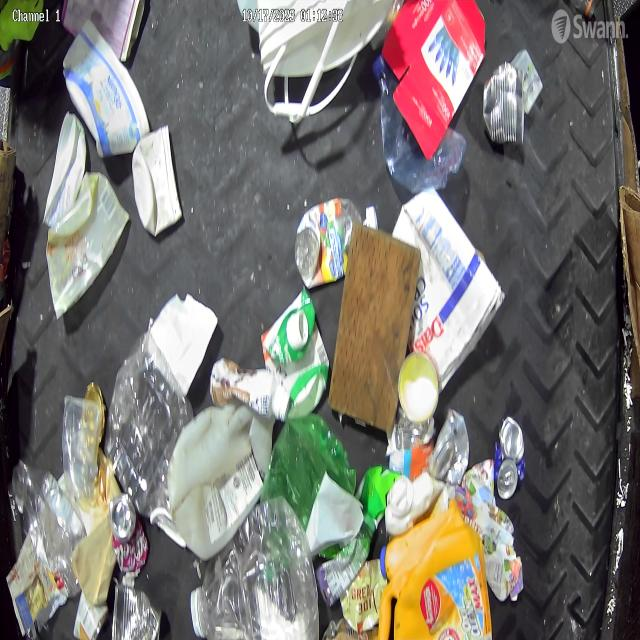can: (484, 62, 524, 146), (110, 581, 163, 640), (109, 493, 148, 573), (430, 410, 470, 487), (494, 415, 526, 499)
milk_jug: (160, 402, 272, 558)
non_white_jug: (378, 502, 492, 640)
